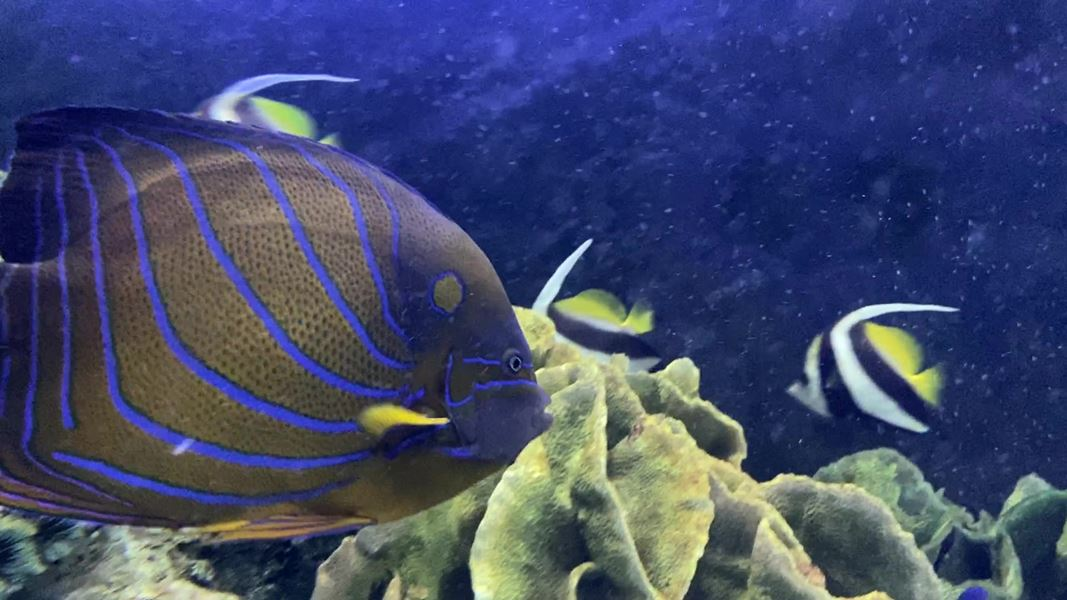Blue ring angelfish: (1, 103, 556, 566)
